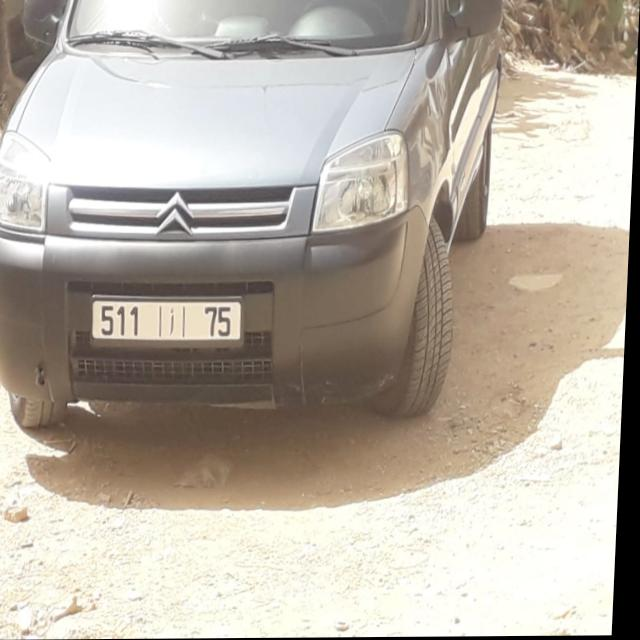License-Plate: (95, 299, 245, 342)
